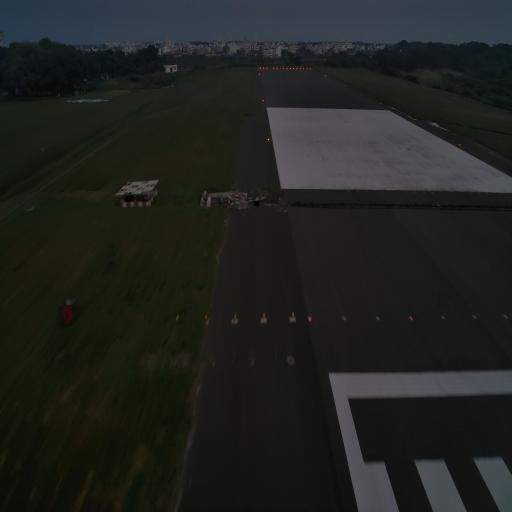off: (472, 309, 479, 322), (342, 309, 348, 324), (374, 310, 380, 323), (440, 312, 447, 323)
on: (306, 310, 313, 326), (173, 310, 180, 325), (290, 308, 297, 322), (230, 312, 238, 324), (502, 310, 509, 322), (204, 312, 210, 324), (262, 310, 267, 324), (408, 312, 414, 322)
